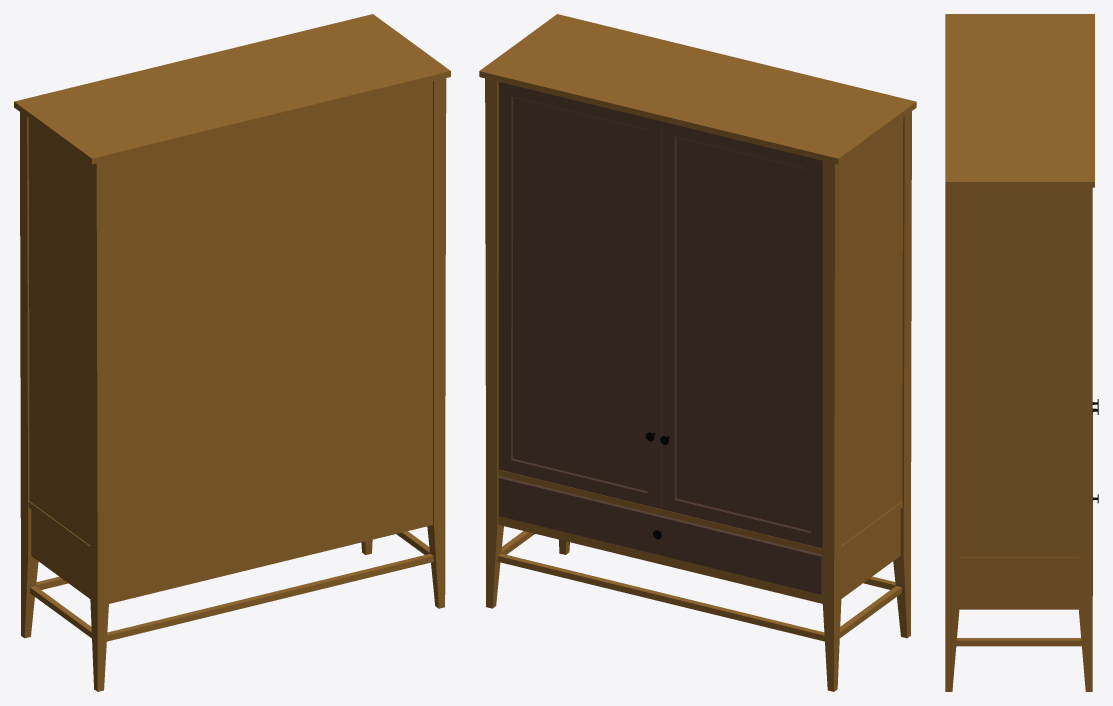
Rendered from kitchen rack.fbx.
3 renders of one model, left to right at view 1: azimuth 30°, elevation 25°; view 2: azimuth 150°, elevation 25°; view 3: azimuth 270°, elevation 25°, orthographic. The views are drawn at different scales.
Visible parts, largest first — view 1: kitchen rack; view 2: kitchen rack, kitchen rack door right, kitchen rack door left, kitchen rack door bot; view 3: kitchen rack.
Part boxes in pixels (x1,y1,x2,y2): kitchen rack: (14, 14, 450, 691); kitchen rack: (479, 14, 916, 691); kitchen rack door right: (498, 82, 661, 508); kitchen rack door left: (660, 121, 822, 548); kitchen rack door bot: (498, 476, 822, 594); kitchen rack: (945, 14, 1094, 691).
Bounding box in the file's own units: 2.05 × 2.92 × 0.7905.
